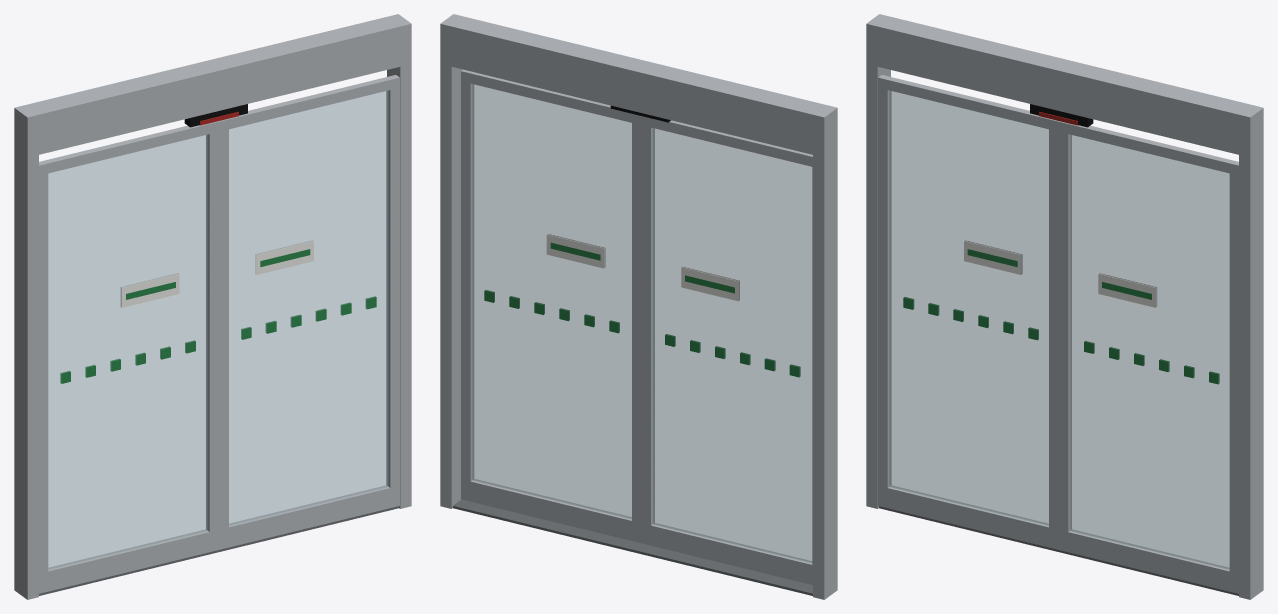
File: auto_door.glb
The picture shows the model from 3 angles, left to right: view 1: azimuth 30°, elevation 25°; view 2: azimuth 150°, elevation 25°; view 3: azimuth 330°, elevation 25°; orthographic projection.
Visible parts, largest first — view 1: pane_r, pane_l, door_frame; view 2: pane_r, pane_l, door_frame; view 3: pane_l, pane_r, door_frame.
Part boxes in pixels (left/top/right/bottom): pane_r: left=219, top=75, right=399, bottom=549; pane_l: left=39, top=121, right=219, bottom=593; door_frame: left=14, top=14, right=411, bottom=599; pane_r: left=461, top=69, right=641, bottom=543; pane_l: left=641, top=116, right=812, bottom=584; door_frame: left=440, top=14, right=837, bottom=599; pane_l: left=878, top=75, right=1058, bottom=549; pane_r: left=1058, top=121, right=1238, bottom=593; door_frame: left=866, top=14, right=1263, bottom=599.
Bounding box in the file's own units: 2 × 2.4 × 0.12.
